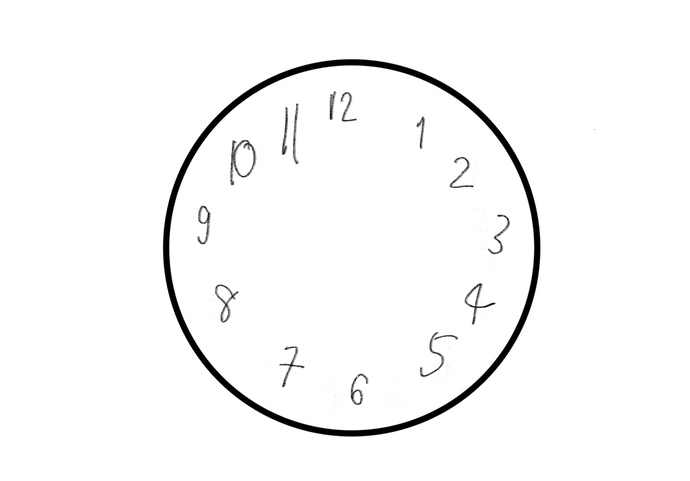eight: (209, 277, 240, 329)
eleven: (277, 103, 304, 172)
five: (418, 327, 459, 380)
four: (463, 277, 497, 325)
nine: (193, 203, 214, 249)
one: (412, 114, 430, 150)
seven: (274, 338, 307, 396)
six: (342, 370, 377, 410)
ten: (226, 137, 260, 187)
three: (488, 208, 511, 257)
twelve: (325, 86, 359, 123)
two: (443, 152, 477, 192)
